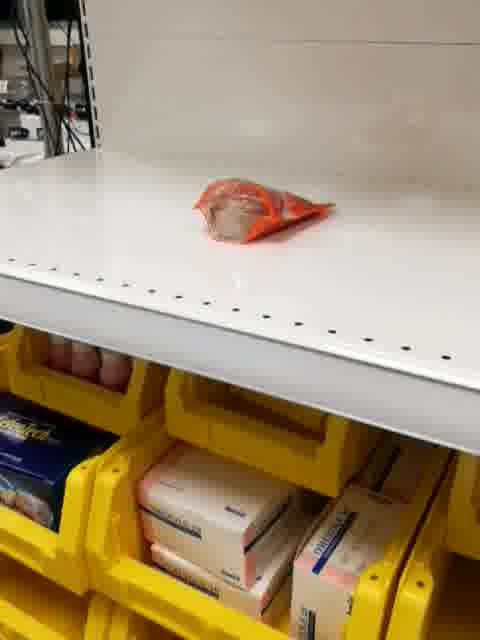whitechia: (192, 177, 337, 246)
